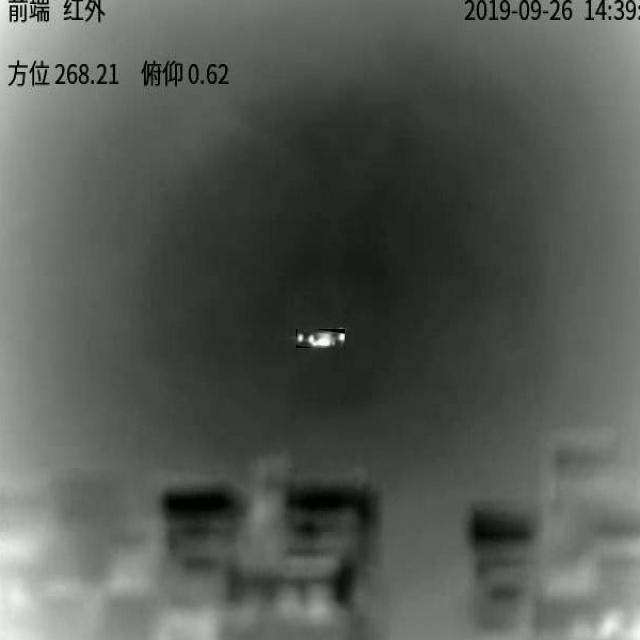drone: (296, 332, 345, 347)
